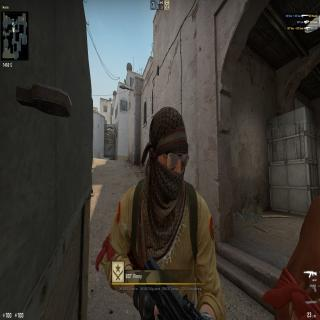T-Head: (140, 104, 190, 204)
